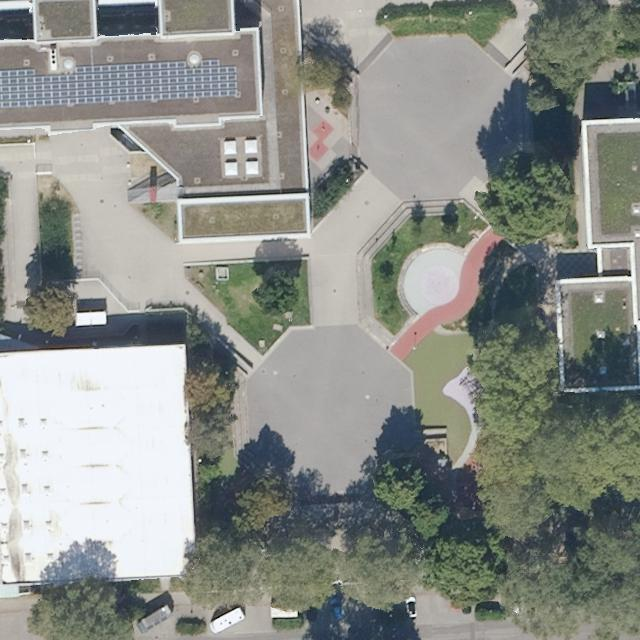PV: (0, 56, 240, 114)
